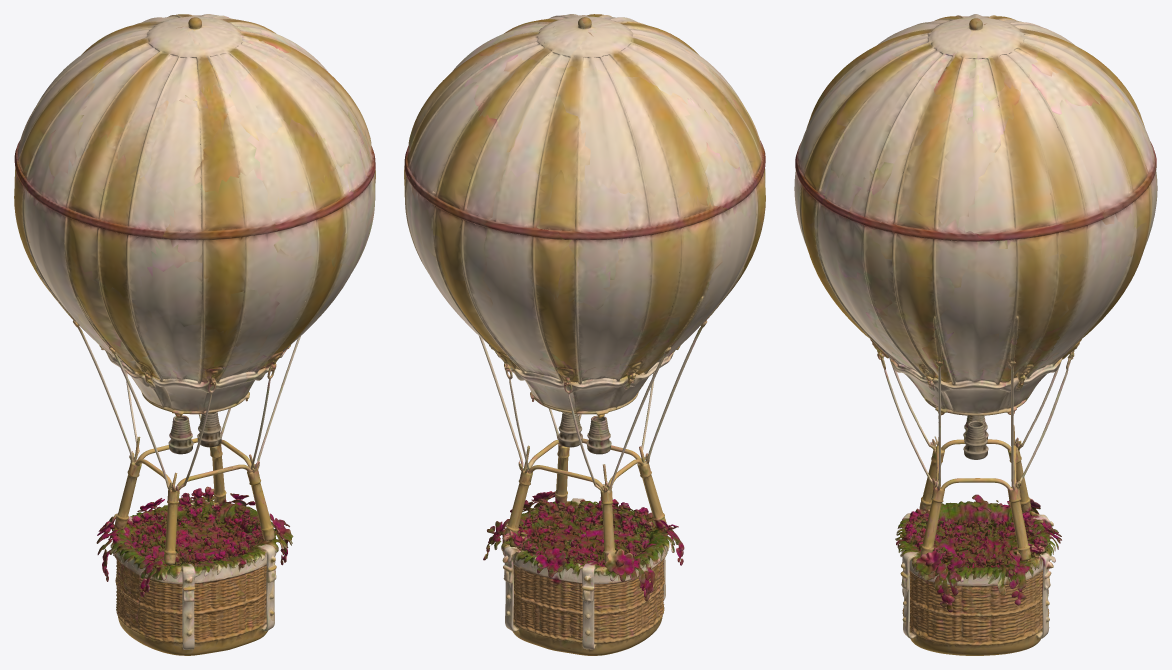
File: globo.glb
3 renders of one model, left to right at view 1: azimuth 30°, elevation 25°; view 2: azimuth 150°, elevation 25°; view 3: azimuth 270°, elevation 25°, orthographic.
Parts seen in each view (by area): view 1: Mesh_0; view 2: Mesh_0; view 3: Mesh_0.
Boxes of the visible parts, x1,y1,x2,y2 form: Mesh_0: [14, 14, 375, 655]; Mesh_0: [404, 14, 765, 655]; Mesh_0: [794, 14, 1157, 655].
Bounding box in the file's own units: 1.03 × 1.9 × 1.03.
Materials: 1 (1 with a texture image).
